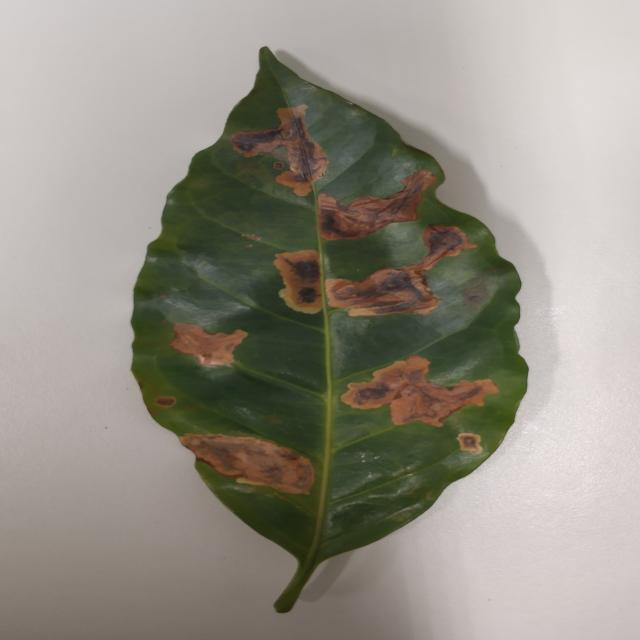Plaga-Minador: (128, 47, 530, 616)
